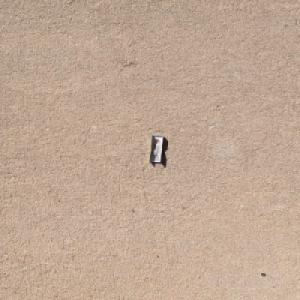ClampPart: (146, 133, 164, 164)
